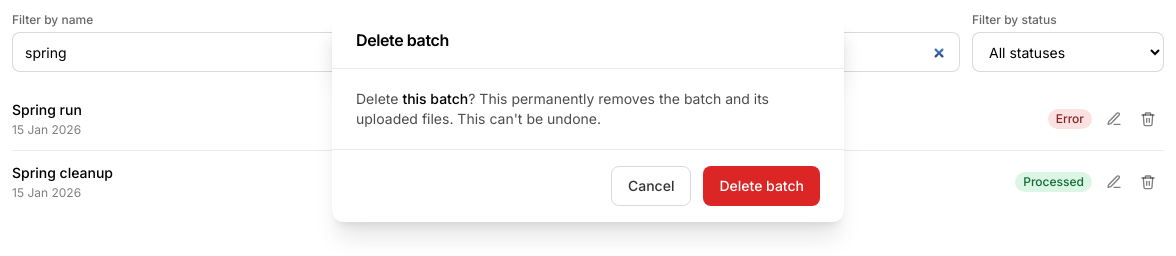
BatchesList › combined filters › applies the name and status filters together (AND)
Earlier steps of the test are not shown.
Step 1. Select "Error" in the dropdown labelled "Filter by status" → (1068, 52), box [972,32,1164,72]
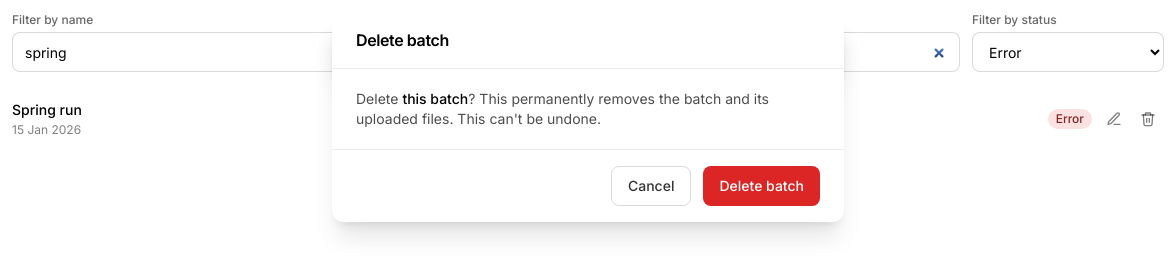
Expected: the text "Spring run" is shown, [12,100,82,120]
Expected: the number of list items is 1, [12,101,1164,137]
